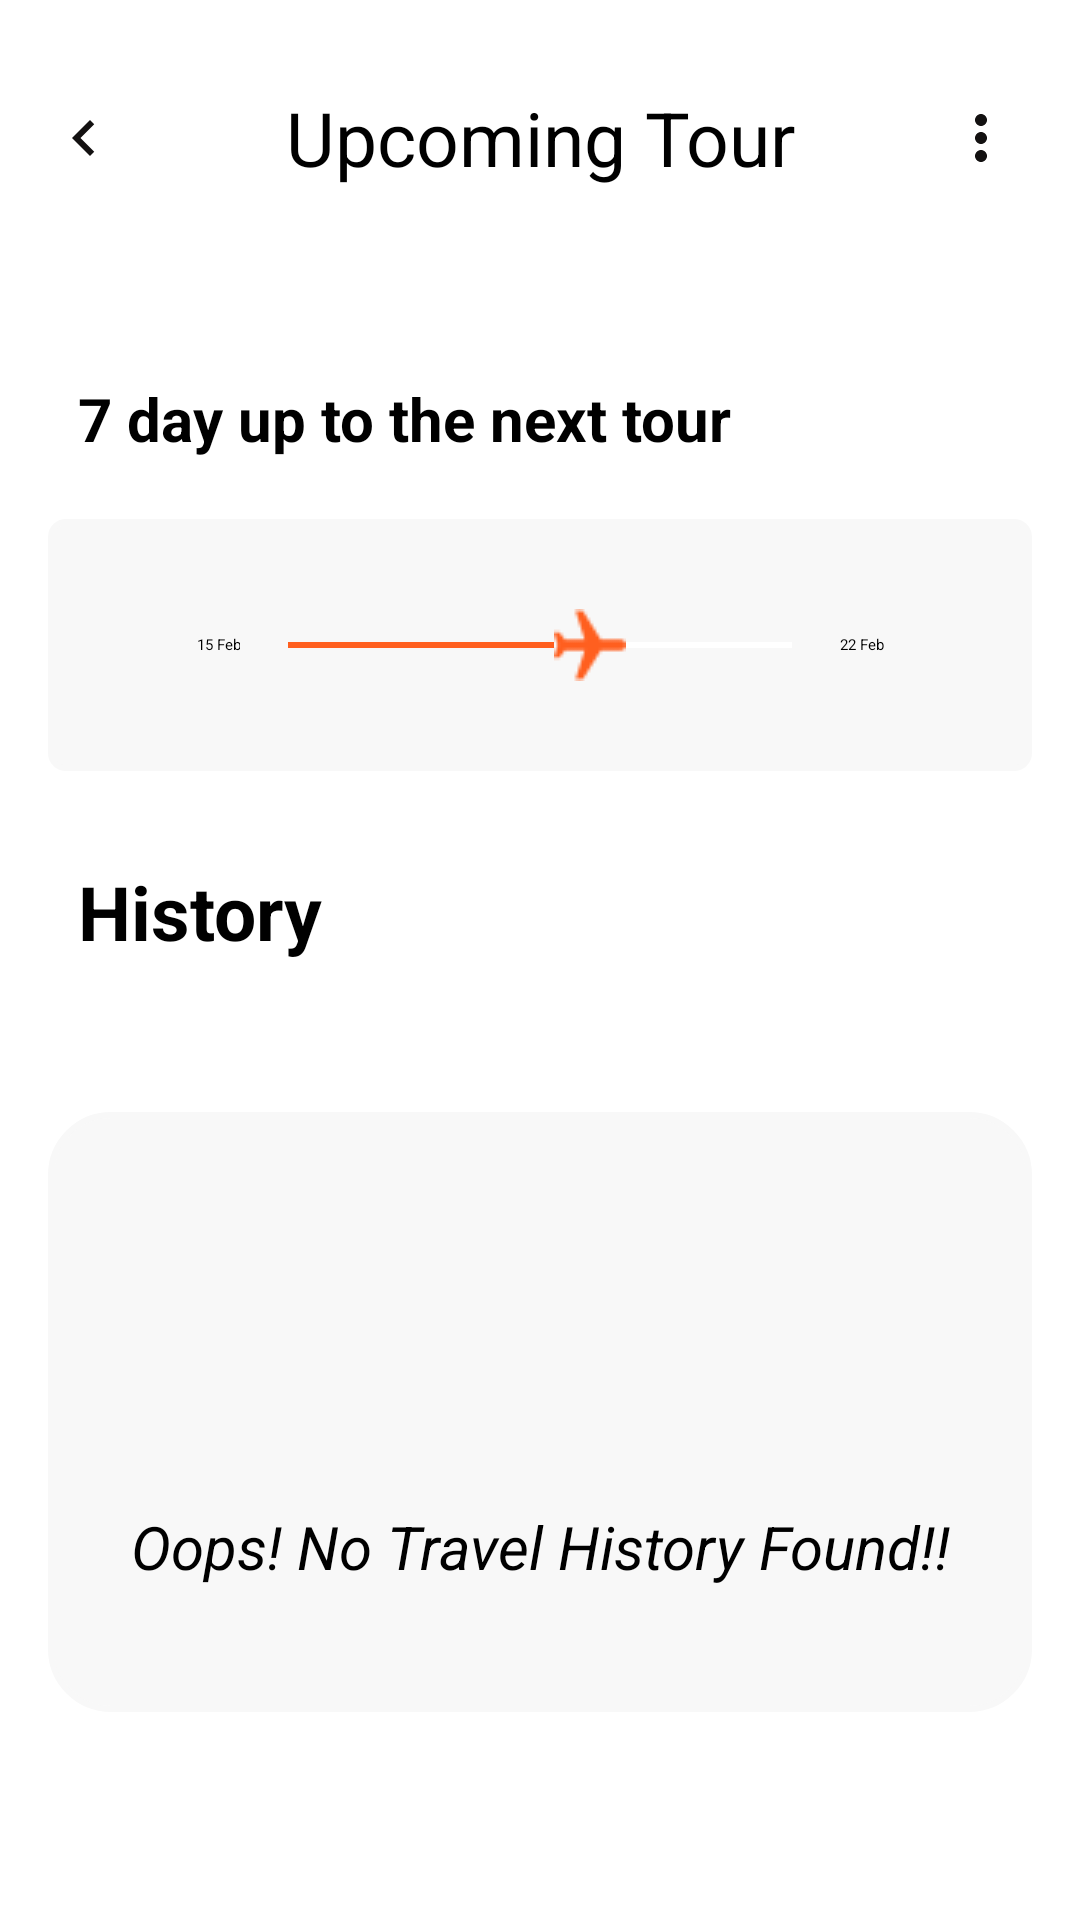

Screen size 1080×1920. Icon name, then its center in pixels as (x=x, y=y):
chevron left: (x=83, y=138)
more vert: (x=981, y=138)
